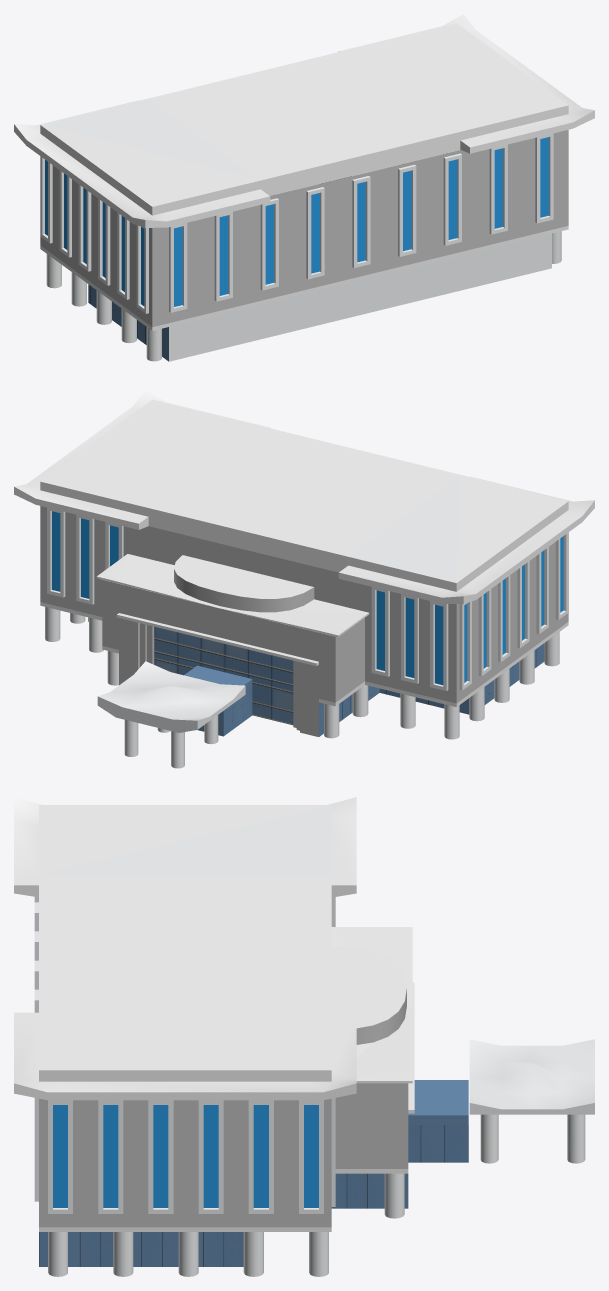
3 renders of one model, top to bottom at view 1: azimuth 30°, elevation 25°; view 2: azimuth 150°, elevation 25°; view 3: azimuth 270°, elevation 25°, orthographic. The views are drawn at different scales.
Visible parts, largest first — view 1: Box001, CasementWindow019, Cylinder014, Cylinder005, Cylinder003, Cylinder001, Cylinder013; view 2: Box001, CasementWindow019, Box002, Cylinder005, Cylinder007, Cylinder008, Cylinder003, Cylinder011, Cylinder009; view 3: Box001, CasementWindow019, Box002, Cylinder008, Cylinder011, Cylinder012, Cylinder001, Cylinder013, Cylinder003, Cylinder005, Cylinder014.
Boxes of the visible parts, x1,y1,x2,y2 form: Box001: [14, 14, 594, 361]; CasementWindow019: [40, 133, 553, 313]; Cylinder014: [146, 231, 561, 361]; Cylinder005: [46, 150, 459, 288]; Cylinder003: [71, 272, 86, 306]; Cylinder001: [96, 290, 111, 324]; Cylinder013: [121, 309, 136, 343]; Box001: [14, 390, 594, 736]; CasementWindow019: [47, 507, 567, 690]; Box002: [97, 661, 245, 732]; Cylinder005: [45, 607, 459, 739]; Cylinder007: [89, 617, 415, 728]; Cylinder008: [107, 651, 339, 738]; Cylinder003: [70, 613, 484, 721]; Cylinder011: [124, 720, 138, 756]; Cylinder009: [171, 731, 184, 768]; Box001: [14, 797, 468, 1266]; CasementWindow019: [34, 897, 335, 1213]; Box002: [469, 1039, 594, 1114]; Cylinder008: [384, 1173, 404, 1218]; Cylinder011: [567, 1114, 585, 1163]; Cylinder012: [480, 1114, 498, 1163]; Cylinder001: [178, 1232, 198, 1276]; Cylinder013: [113, 1232, 133, 1276]; Cylinder003: [243, 1232, 263, 1276]; Cylinder005: [309, 1232, 328, 1276]; Cylinder014: [48, 1232, 67, 1276].
Size of the model in its own units: 6.86 by 2.32 by 5.88.
